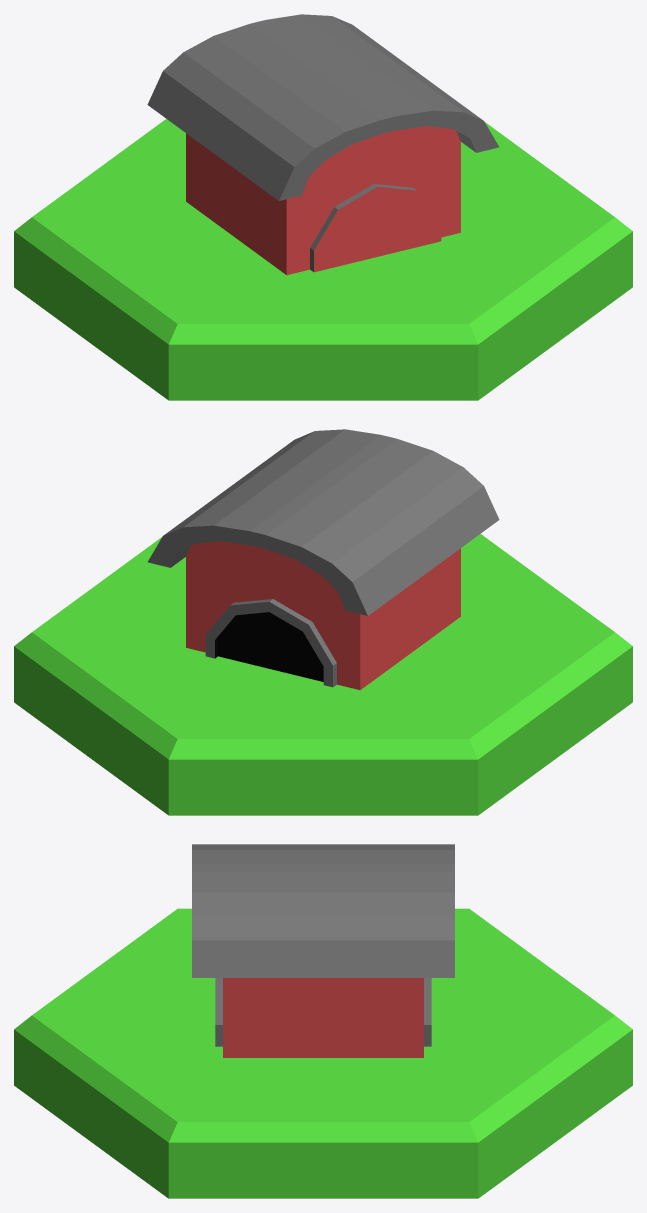
Rendered from tile_food_granary.fbx.
The picture shows the model from 3 angles, top to bottom: view 1: azimuth 30°, elevation 25°; view 2: azimuth 150°, elevation 25°; view 3: azimuth 270°, elevation 25°; orthographic projection.
Parts seen in each view (by area): view 1: Pad, Granary; view 2: Pad, Granary; view 3: Pad, Granary.
Part boxes in pixels (x1,y1,x2,y2): Pad: [14, 119, 632, 400]; Granary: [147, 14, 498, 275]; Pad: [14, 534, 632, 815]; Granary: [148, 429, 499, 690]; Pad: [14, 908, 632, 1198]; Granary: [192, 844, 454, 1057].
Bounding box in the file's own units: 346 × 155 × 400.
